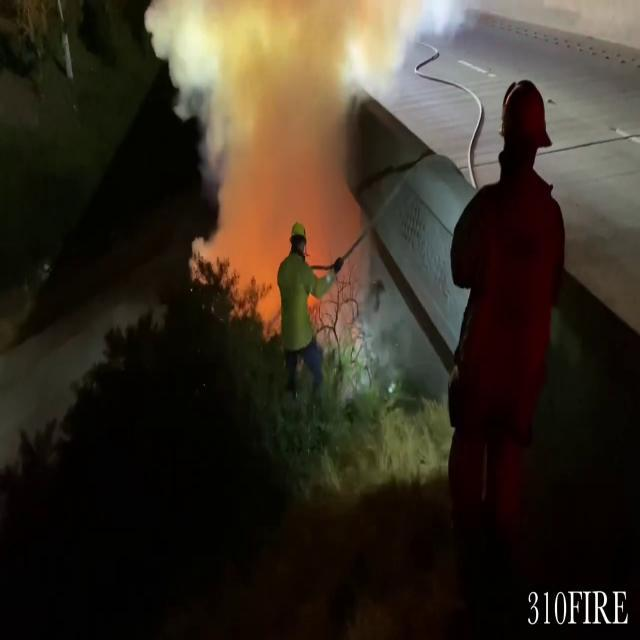Smoke: (145, 0, 419, 340)
